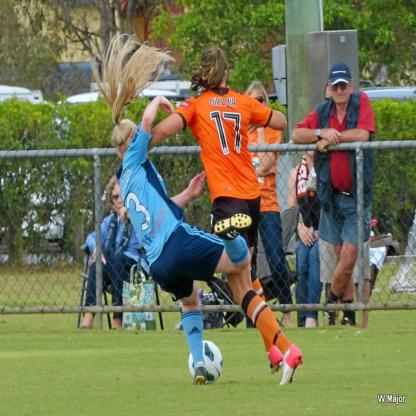Ball: (189, 340, 222, 386)
